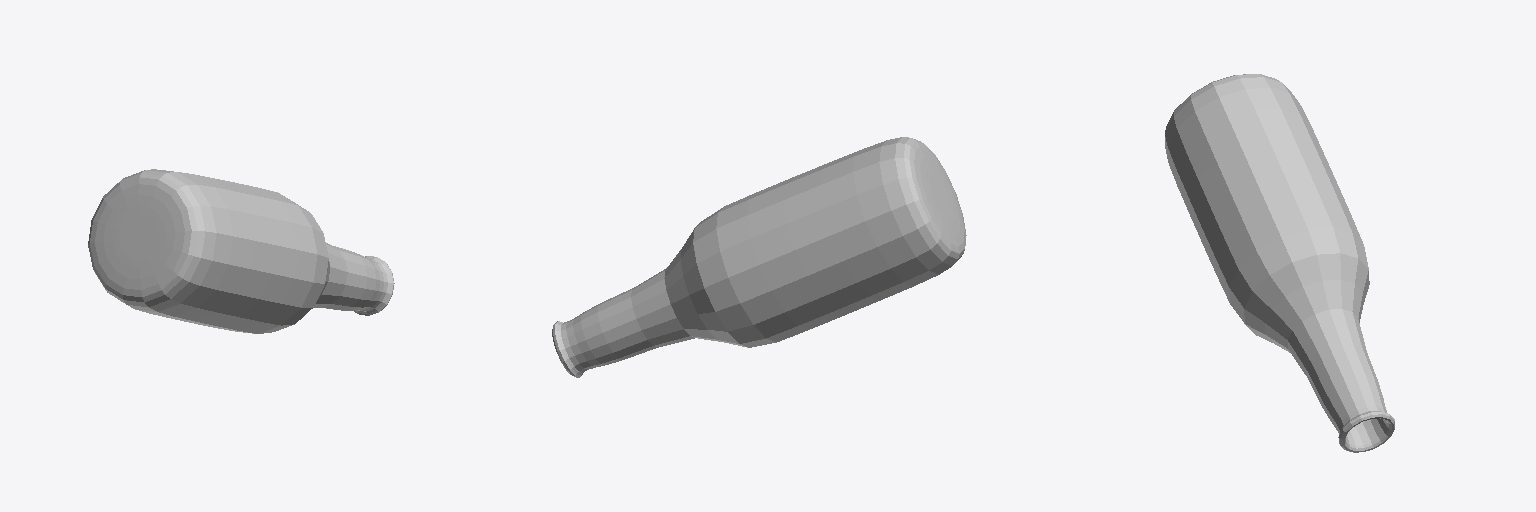
The model's file is bottle.obj.
3 views of the same model, side by side, from view 1: azimuth 30°, elevation 25°; view 2: azimuth 150°, elevation 25°; view 3: azimuth 270°, elevation 25° (orthographic).
Size of the model in its own units: 1.3 by 0.8983 by 0.7529.